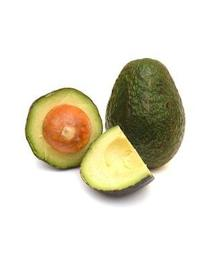avocado: (104, 58, 186, 172), (25, 86, 102, 170), (79, 124, 155, 199)
